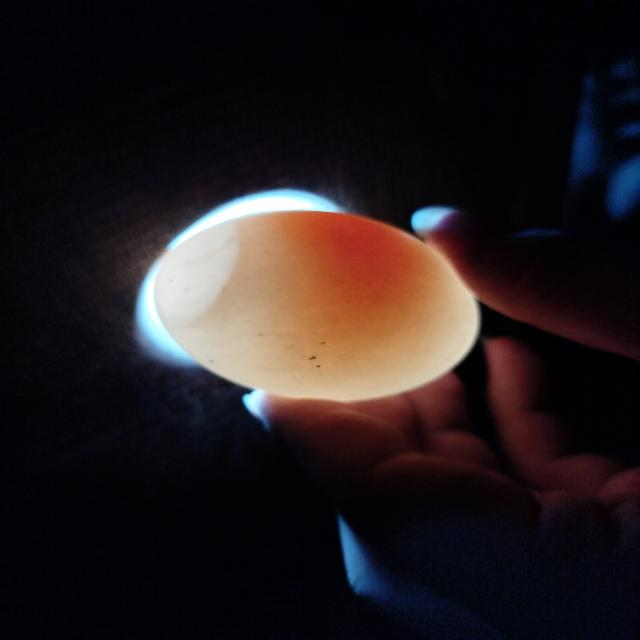Camara de Ar: (156, 225, 236, 325)
Gema Quebrada: (275, 212, 428, 351)
